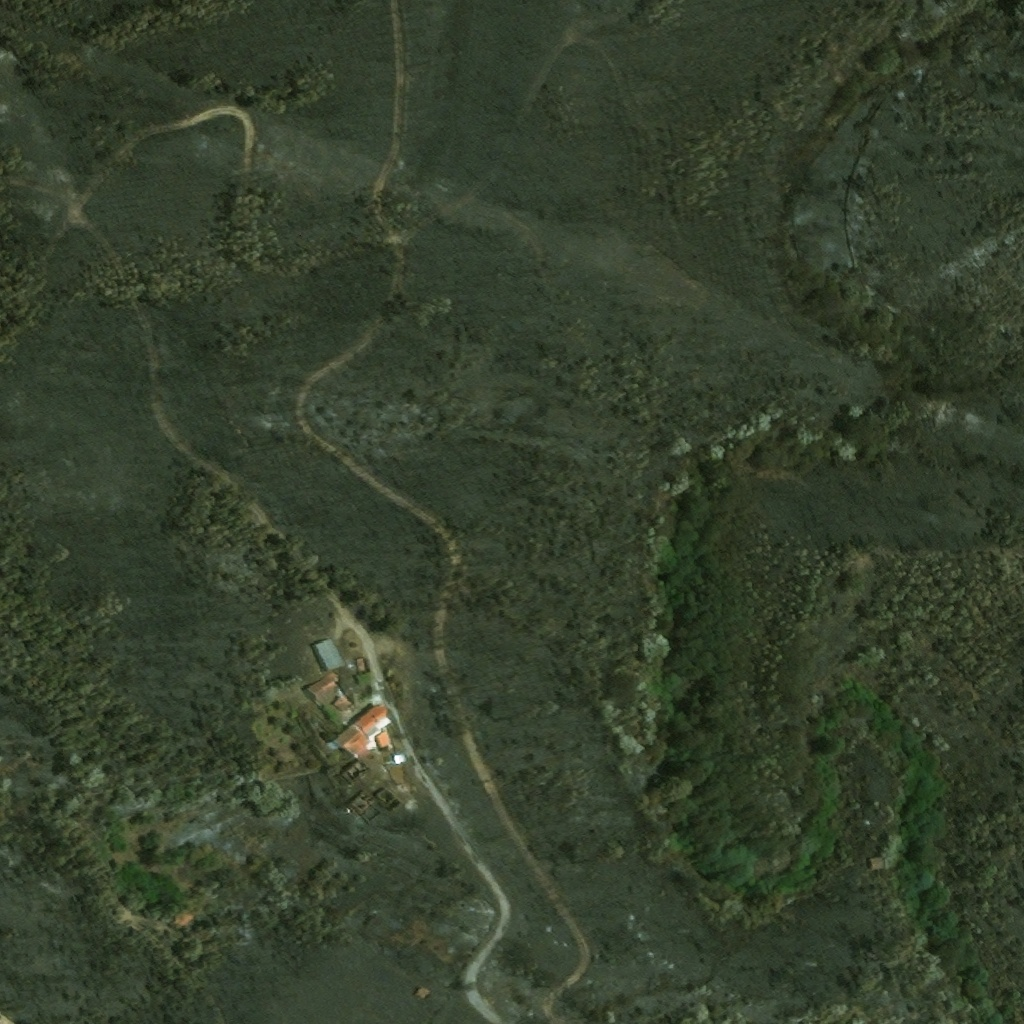0 no-damage: (331, 704, 391, 759), (300, 673, 338, 703), (310, 639, 341, 670), (168, 912, 189, 932), (330, 696, 350, 713), (387, 754, 405, 765)
2 major-damage: (355, 656, 372, 674)
3 destroyed: (349, 791, 376, 814), (340, 761, 365, 784), (374, 788, 395, 804)
